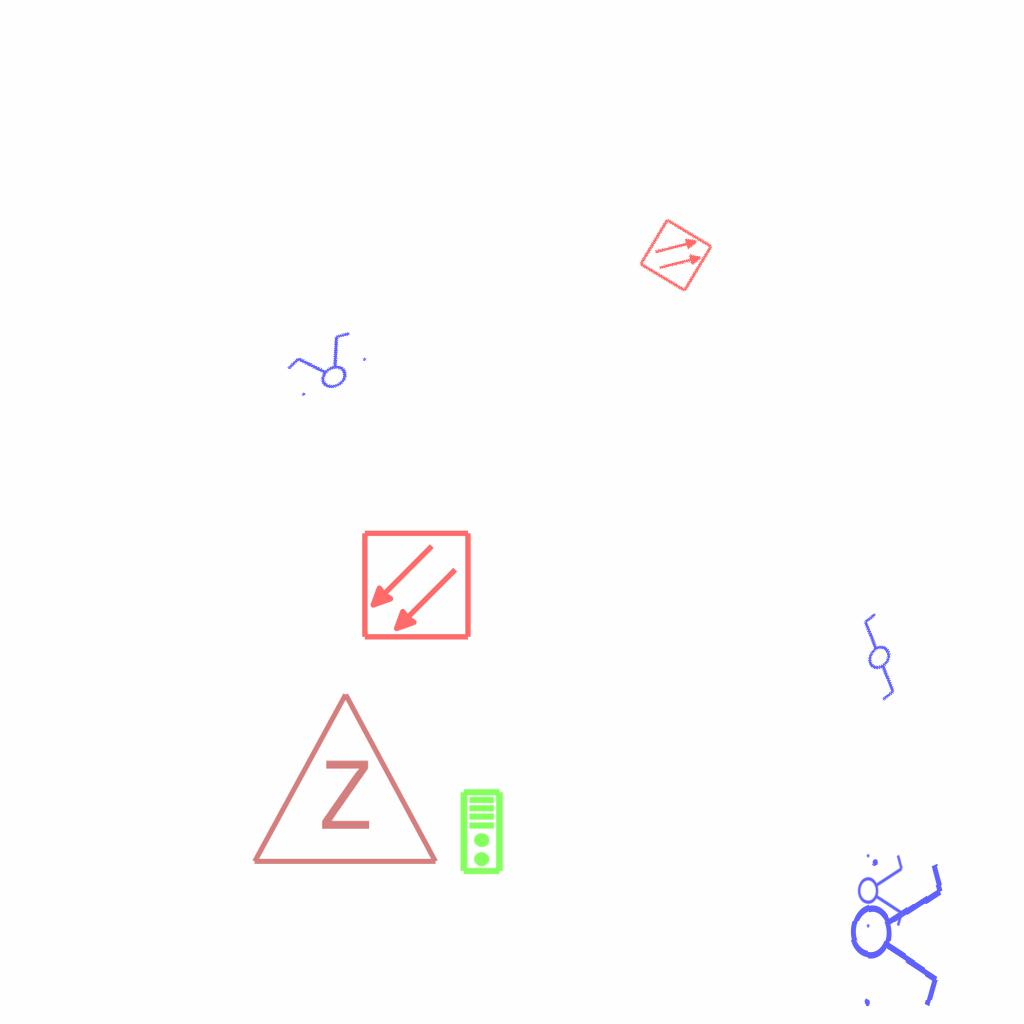Gegensprechanlage_mit_Video: (459, 788, 506, 876)
RMO_Rauchmelder_optischer: (360, 529, 473, 642), (637, 216, 715, 294)
Serienschalter: (844, 845, 950, 1019), (278, 324, 376, 408), (857, 848, 905, 932)
Wechselschalter: (823, 607, 929, 713)
Zimmersignalleuchte: (245, 679, 441, 879)
